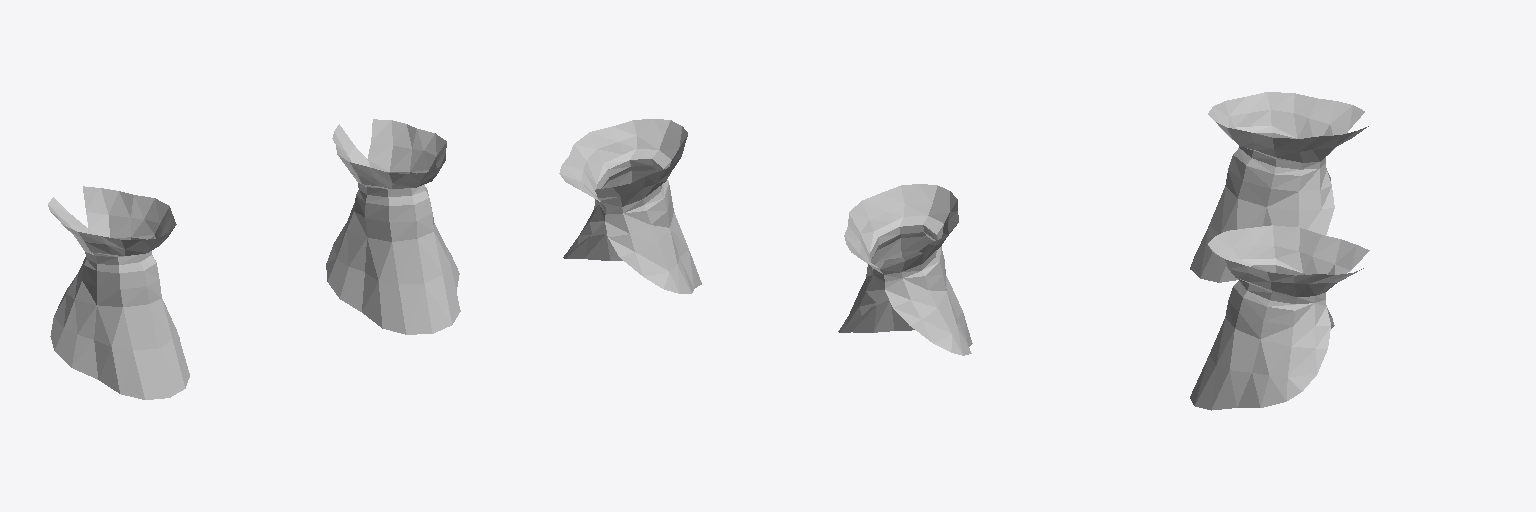
File: skinSource0FEE.obj
3 views of the same model, side by side, from view 1: azimuth 30°, elevation 25°; view 2: azimuth 150°, elevation 25°; view 3: azimuth 270°, elevation 25° (orthographic).
Visible parts, largest first — view 1: skinSource0FEE; view 2: skinSource0FEE; view 3: skinSource0FEE.
Part boxes in pixels (bbox=[...]): skinSource0FEE: bbox=[48, 119, 460, 399]; skinSource0FEE: bbox=[559, 119, 972, 355]; skinSource0FEE: bbox=[1190, 92, 1369, 410].
Size of the model in its own units: 40.53 by 15.04 by 15.95.